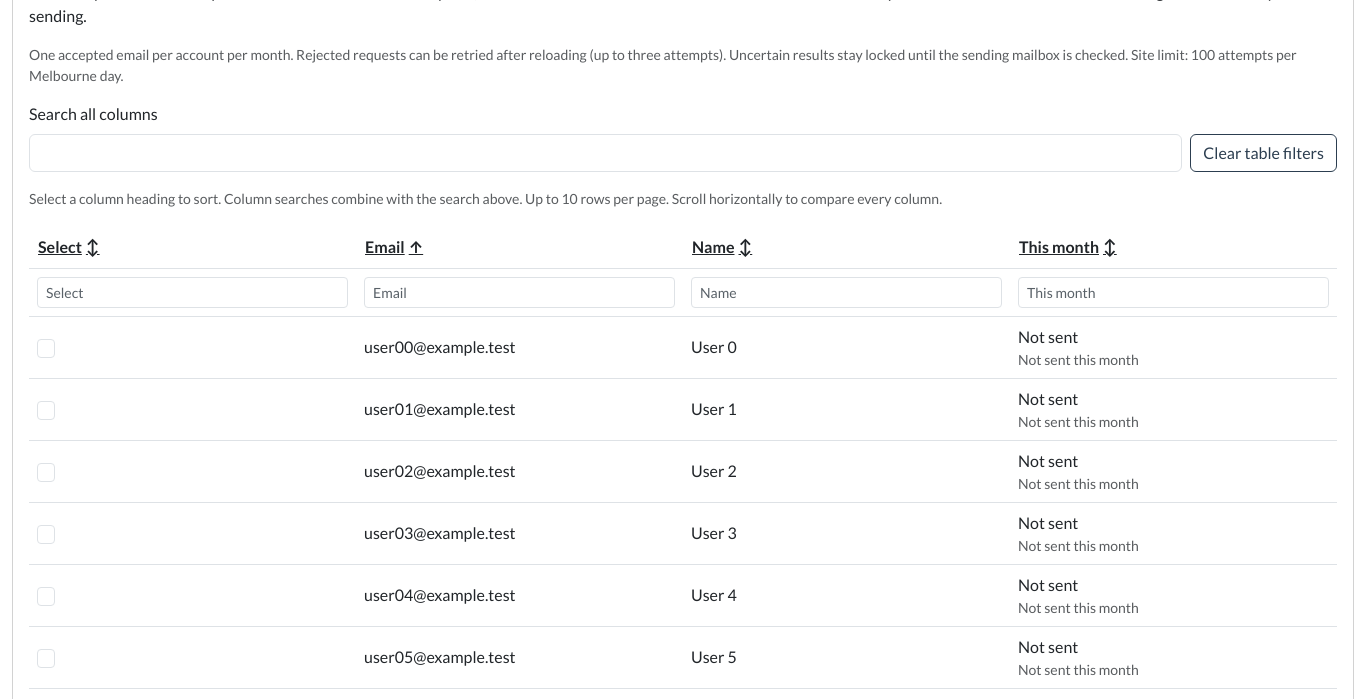
it: seasonal mail administrator flow › requires selection and review, then submits only UIDs and the server preview digest
The image size is (1366, 699).
(page scrolled)
Click the checkbox named "Send to user00@example.test": (46, 349) [37,339,55,358]
(page scrolled)
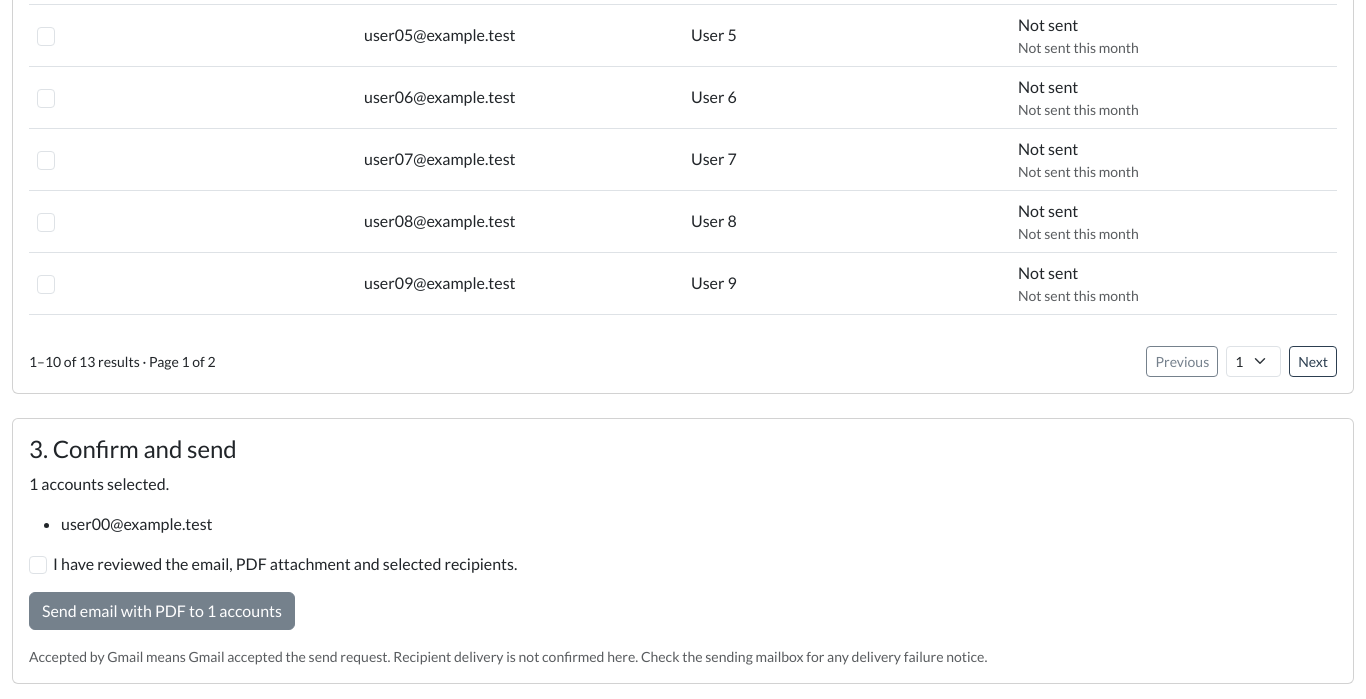
Expected: the submit button is disabled, [29,592,295,630]
Click the checkbox with id "mail-reviewed": (38, 565) [29,556,47,574]
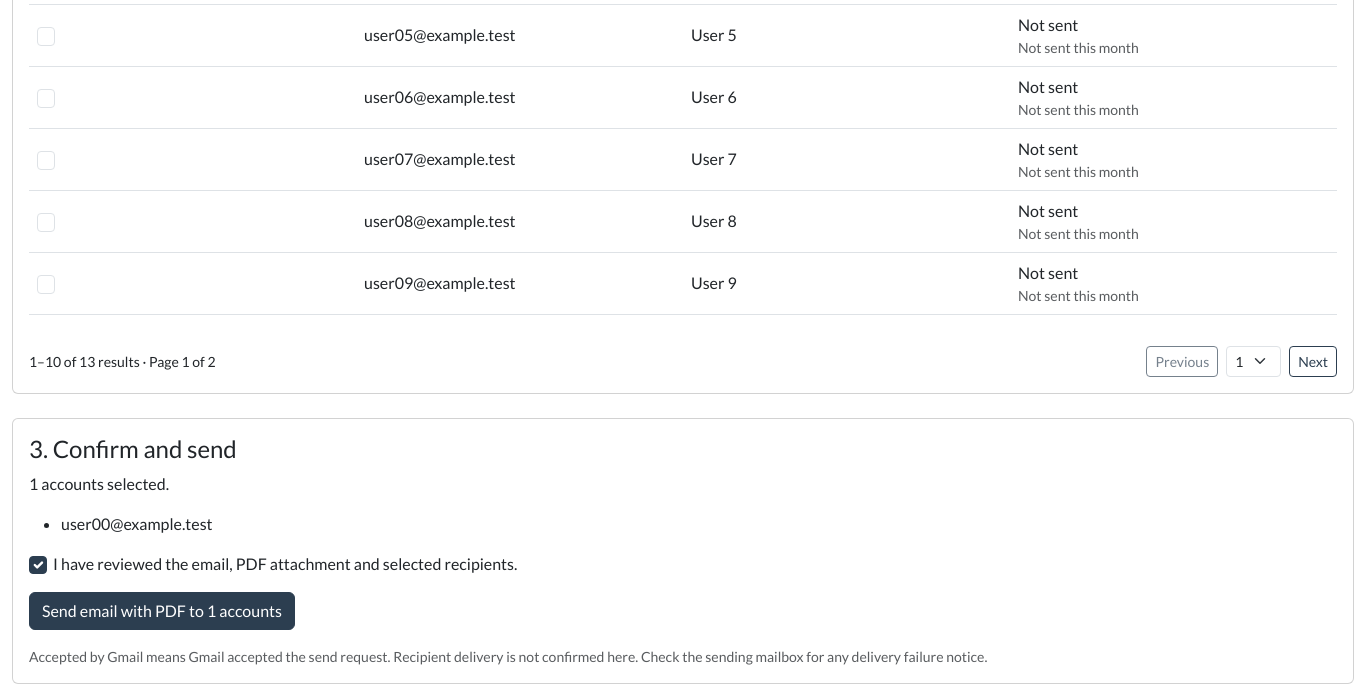
Submit the form, box [12,418,1354,684]
(page scrolled)
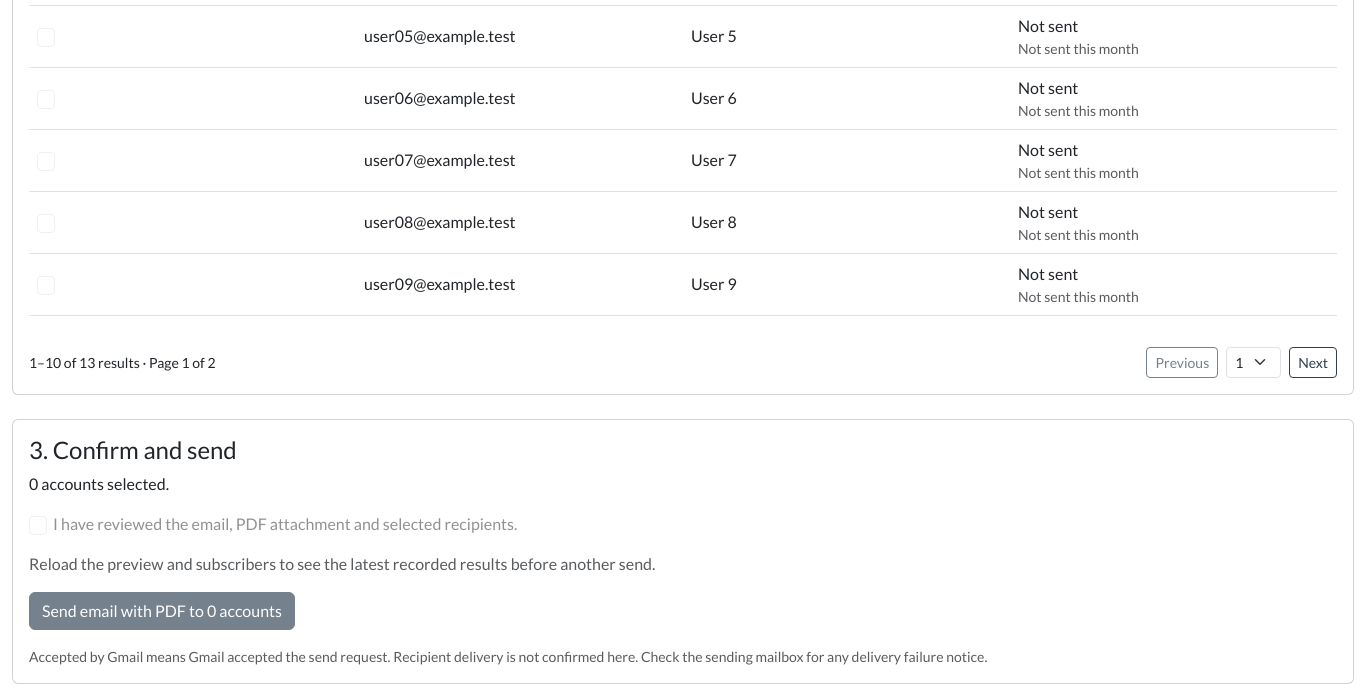
Expected: the submit button is disabled, [29,592,295,630]
Expected: the text "Reload the preview" is shown, [29,554,655,574]
